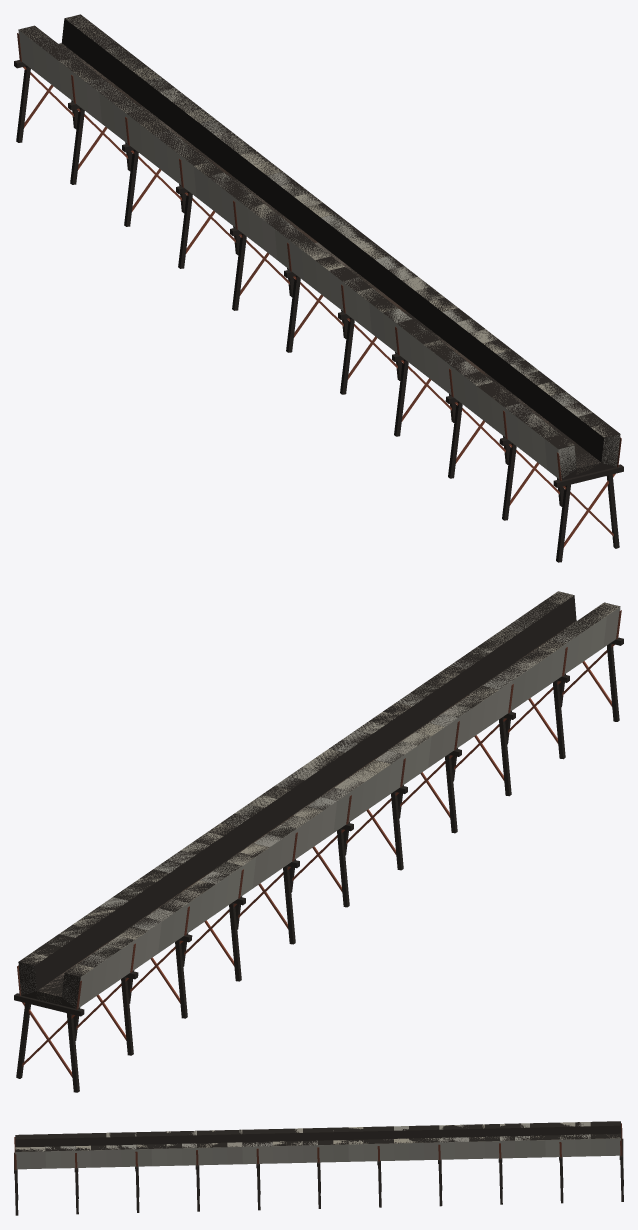
File: flume_span.glb
The picture shows the model from 3 angles, top to bottom: view 1: azimuth 30°, elevation 25°; view 2: azimuth 150°, elevation 25°; view 3: azimuth 270°, elevation 25°; orthographic projection. The views are drawn at different scales.
Visible parts, largest first — view 1: flume_span-col-col, flume_span_body; view 2: flume_span-col-col, flume_span_body; view 3: flume_span_body, flume_span-col-col.
Boxes of the visible parts, <box> form: flume_span-col-col: <box>14,14,623,562</box>; flume_span_body: <box>17,14,621,547</box>; flume_span-col-col: <box>14,591,623,1092</box>; flume_span_body: <box>17,591,621,1077</box>; flume_span_body: <box>14,1122,622,1173</box>; flume_span-col-col: <box>14,1121,623,1215</box>.
Bounding box in the file's own units: 8.6 × 17.03 × 121.
